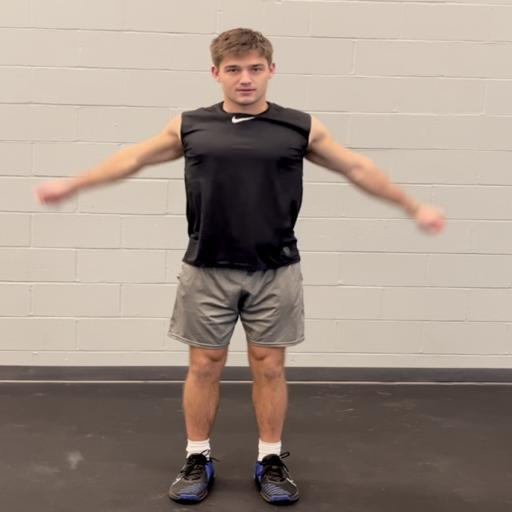Normal_JumpingJacks: (12, 17, 466, 512)
